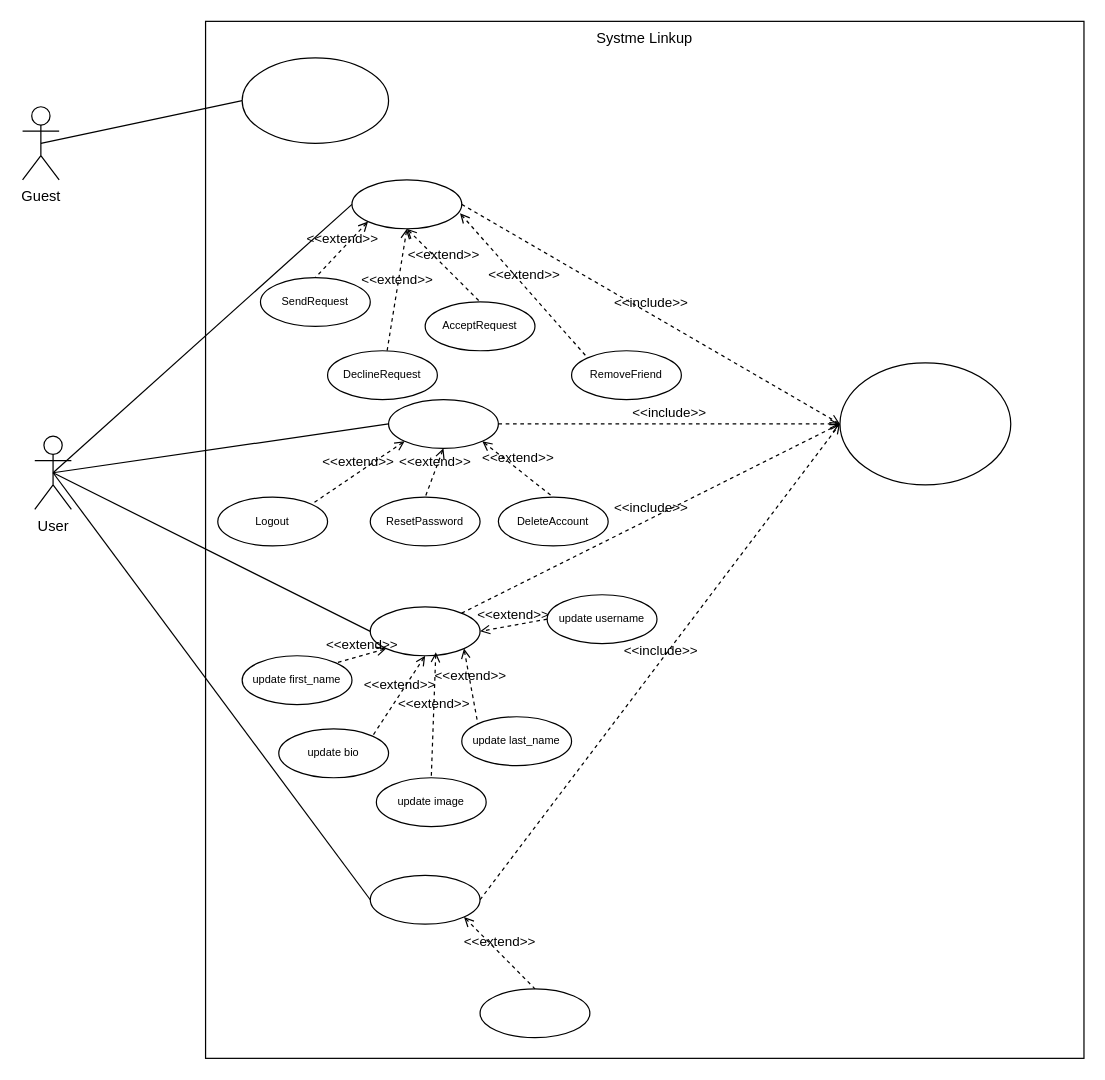
The diagram is 1105 pixels wide and 1080 high, and some of its shapes have lost their labels. Each missing label, with the centre of its shape:
"Auth" belongs at (x=925, y=423).
"Create account" belongs at (x=315, y=100).
"Manage account" belongs at (x=442, y=423).
"Manage Friends" belongs at (x=406, y=204).
"manage users" belongs at (x=424, y=899).
"SearchUser" belongs at (x=534, y=1013).
"Update profile" belongs at (x=424, y=631).
